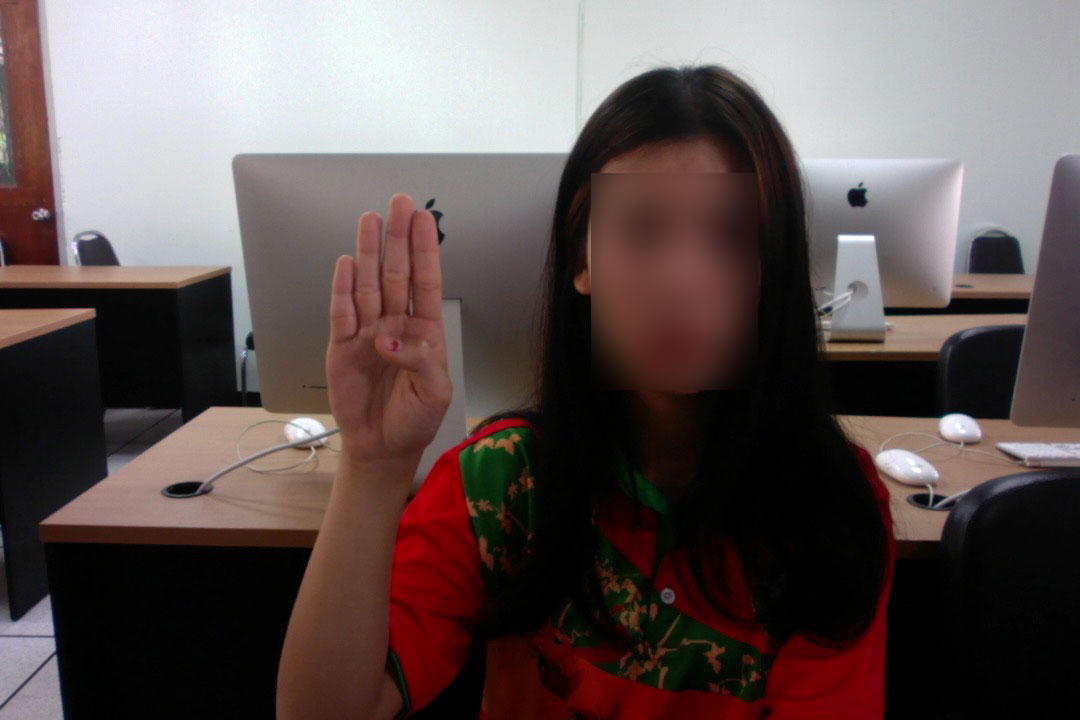bor: (321, 187, 457, 473)
